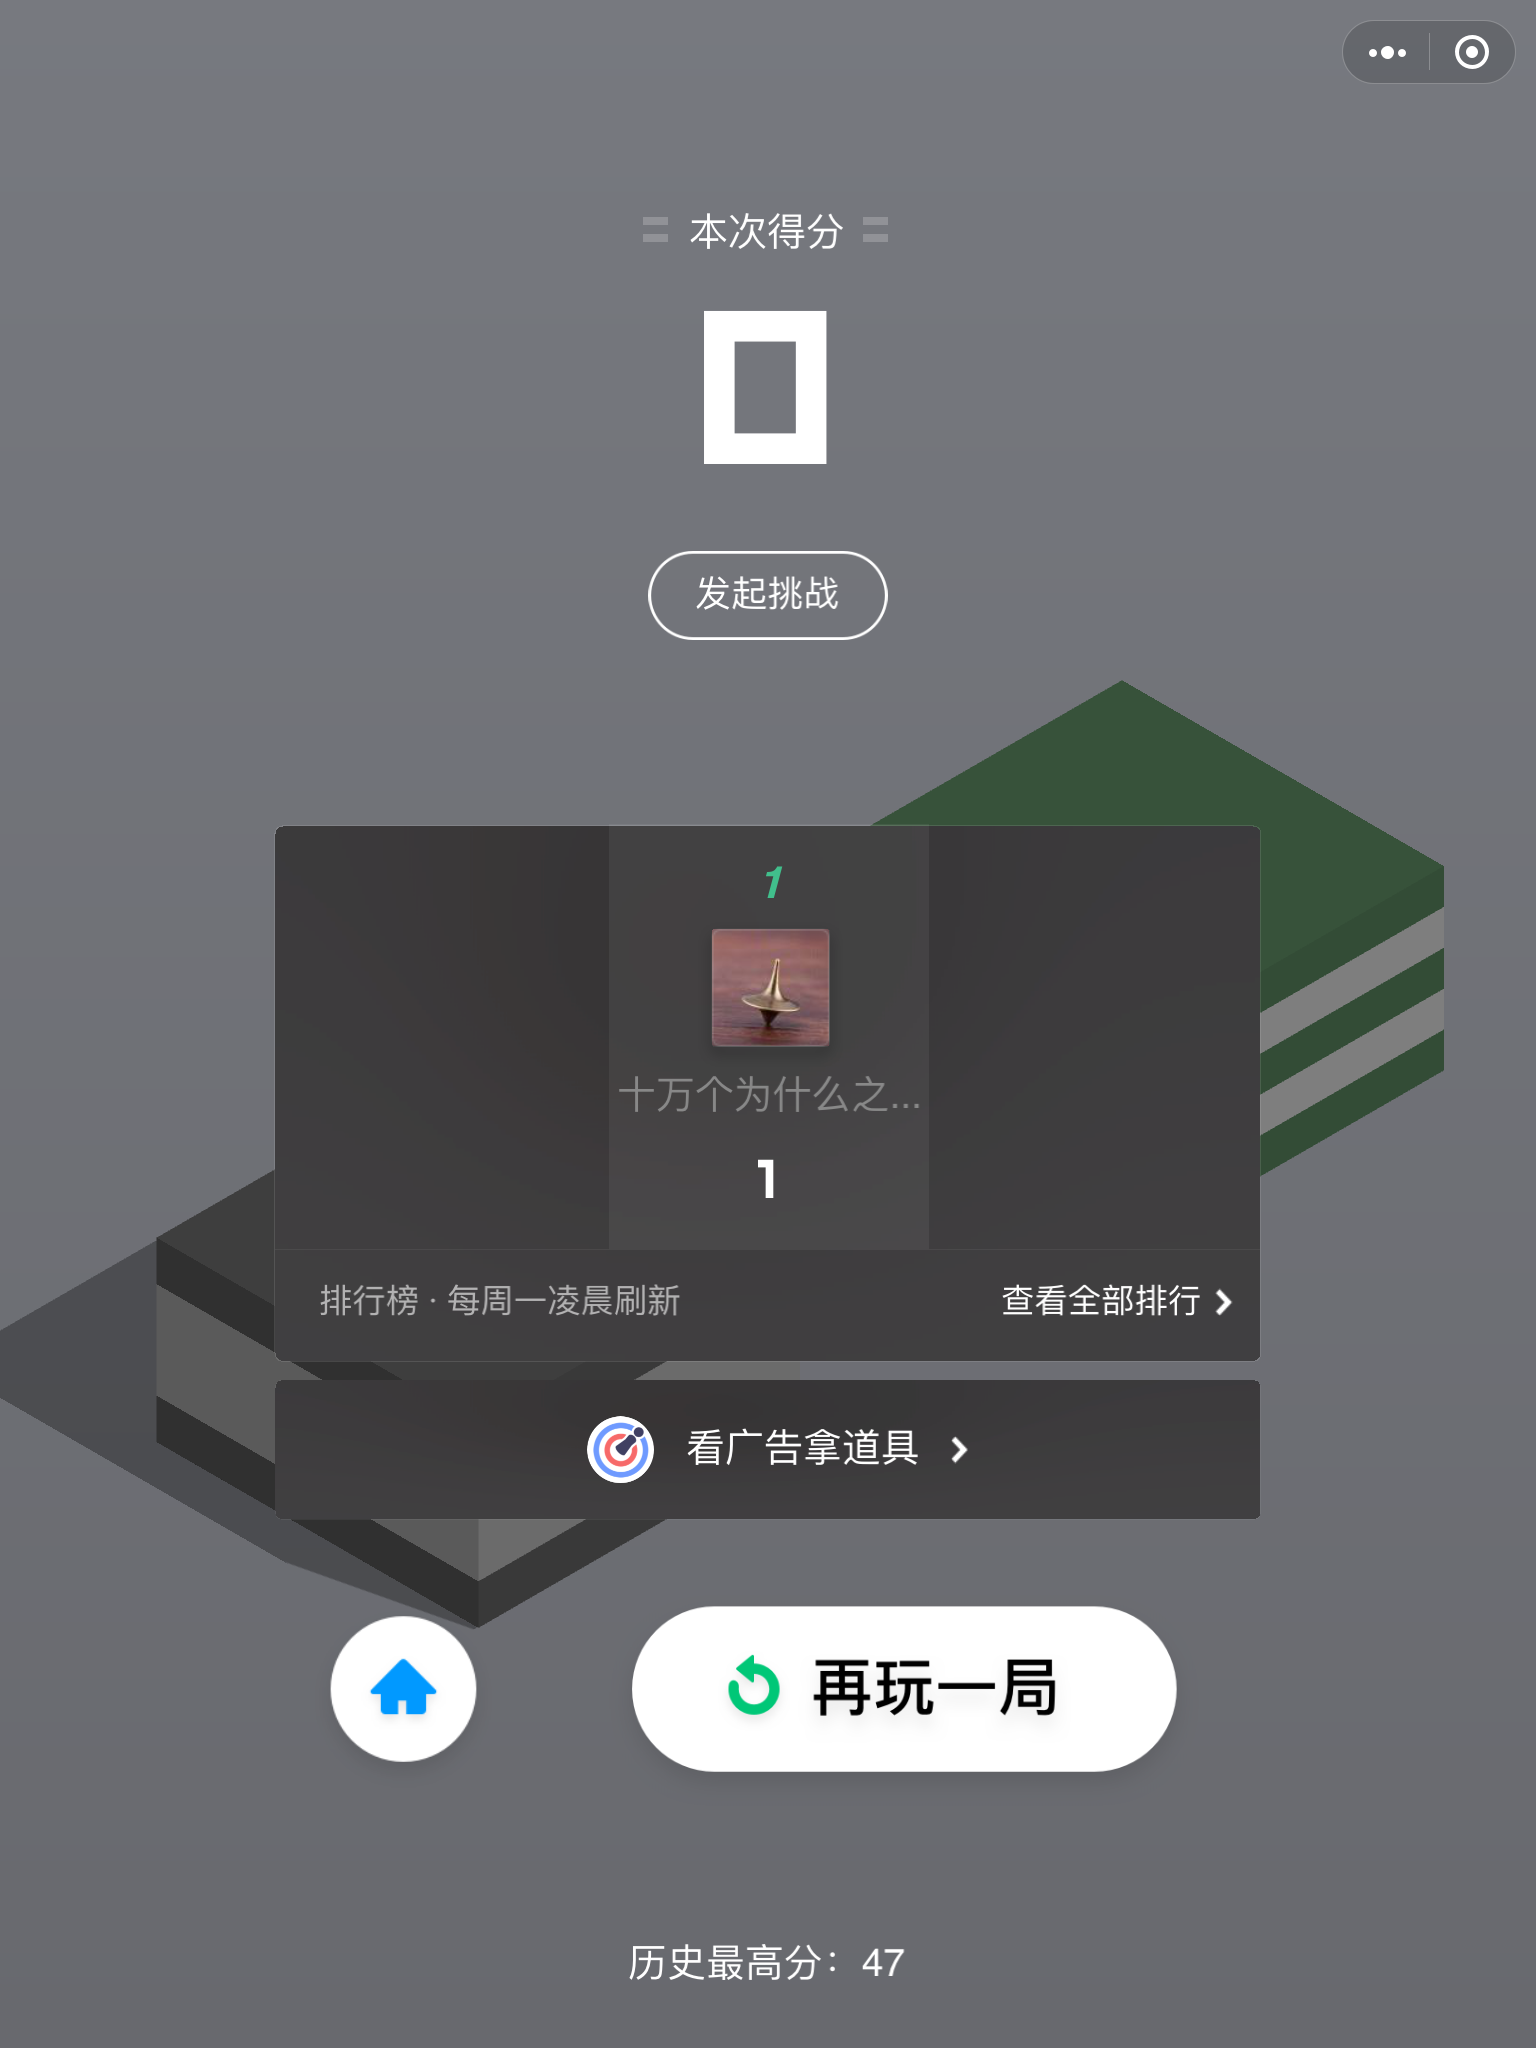f: (849, 677, 1449, 1209), (153, 1126, 712, 1630)
s: (624, 1600, 1184, 1780)
